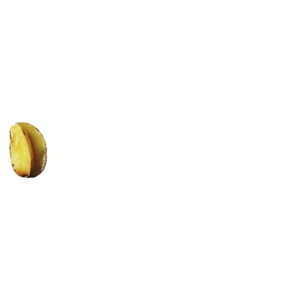carambola: (9, 123, 48, 178)
